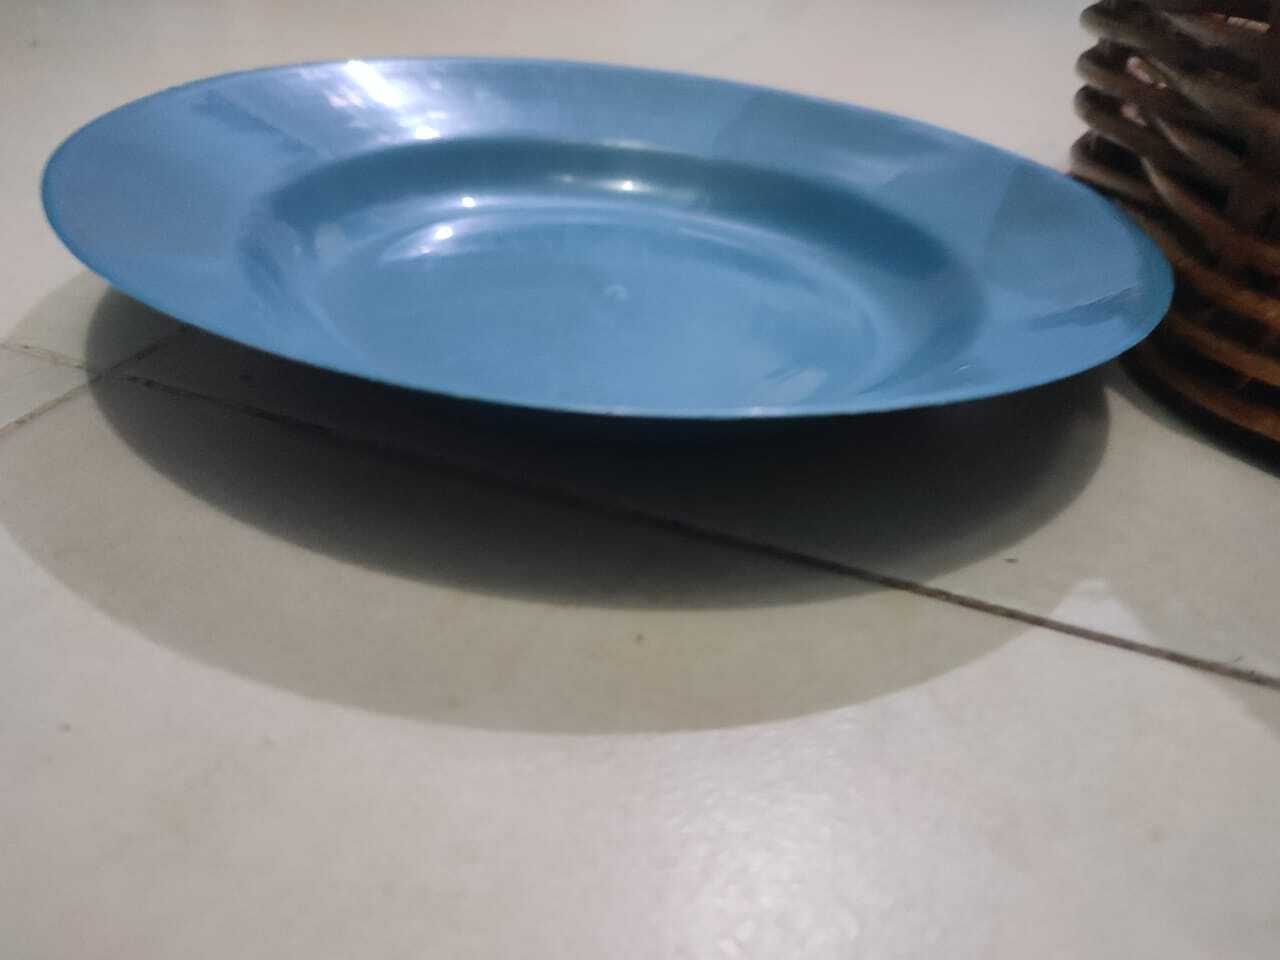piring: (34, 54, 1176, 419)
